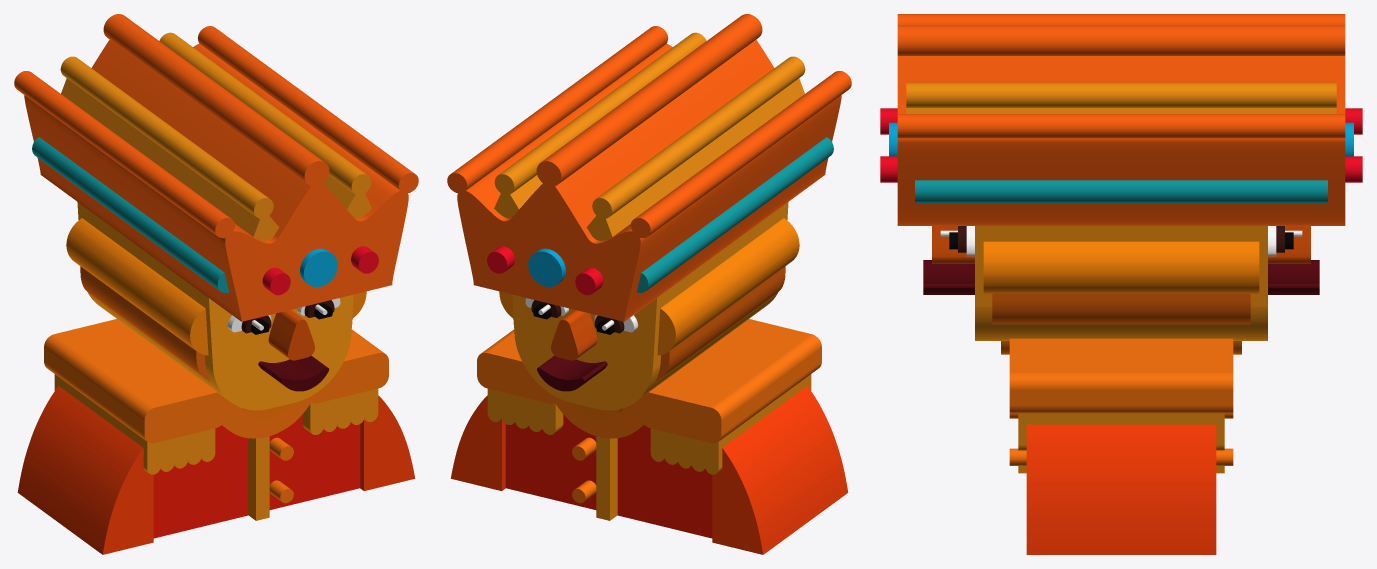
Rendered from U+1FAC5.obj.
The picture shows the model from 3 angles, left to right: view 1: azimuth 30°, elevation 25°; view 2: azimuth 150°, elevation 25°; view 3: azimuth 270°, elevation 25°; orthographic projection. The views are drawn at different scales.
Visible parts, largest first — view 1: U+1FAC5_layer16_obj00, U+1FAC5_layer01_obj00, U+1FAC5_layer03_obj00, U+1FAC5_layer15_obj00, U+1FAC5_layer00_obj00, U+1FAC5_layer07_obj00, U+1FAC5_layer02_obj00, U+1FAC5_layer06_obj00, U+1FAC5_layer14_obj00, U+1FAC5_layer05_obj00, U+1FAC5_layer12_obj00, U+1FAC5_layer13_obj00 (+2 smaller); view 2: U+1FAC5_layer16_obj00, U+1FAC5_layer01_obj00, U+1FAC5_layer03_obj00, U+1FAC5_layer15_obj00, U+1FAC5_layer00_obj00, U+1FAC5_layer07_obj00, U+1FAC5_layer02_obj00, U+1FAC5_layer06_obj00, U+1FAC5_layer14_obj00, U+1FAC5_layer05_obj00, U+1FAC5_layer12_obj00, U+1FAC5_layer13_obj00 (+2 smaller); view 3: U+1FAC5_layer16_obj00, U+1FAC5_layer01_obj00, U+1FAC5_layer03_obj00, U+1FAC5_layer06_obj00, U+1FAC5_layer15_obj00, U+1FAC5_layer07_obj00, U+1FAC5_layer14_obj00, U+1FAC5_layer05_obj00, U+1FAC5_layer13_obj00, U+1FAC5_layer02_obj00, U+1FAC5_layer12_obj00, U+1FAC5_layer18_obj00 (+1 smaller).
Boxes of the visible parts, x1,y1,x2,y2 form: U+1FAC5_layer16_obj00: [14, 14, 418, 321]; U+1FAC5_layer01_obj00: [17, 386, 414, 554]; U+1FAC5_layer03_obj00: [44, 319, 388, 503]; U+1FAC5_layer15_obj00: [60, 32, 371, 240]; U+1FAC5_layer00_obj00: [153, 414, 360, 538]; U+1FAC5_layer07_obj00: [77, 202, 353, 410]; U+1FAC5_layer02_obj00: [54, 374, 378, 520]; U+1FAC5_layer06_obj00: [66, 218, 366, 355]; U+1FAC5_layer14_obj00: [32, 137, 228, 292]; U+1FAC5_layer05_obj00: [80, 266, 352, 381]; U+1FAC5_layer12_obj00: [268, 310, 314, 360]; U+1FAC5_layer13_obj00: [258, 355, 329, 391]; U+1FAC5_layer16_obj00: [447, 14, 851, 321]; U+1FAC5_layer01_obj00: [451, 386, 848, 554]; U+1FAC5_layer03_obj00: [477, 319, 821, 503]; U+1FAC5_layer15_obj00: [494, 32, 805, 240]; U+1FAC5_layer00_obj00: [505, 414, 712, 538]; U+1FAC5_layer07_obj00: [512, 202, 788, 410]; U+1FAC5_layer02_obj00: [487, 374, 811, 520]; U+1FAC5_layer06_obj00: [499, 218, 799, 355]; U+1FAC5_layer14_obj00: [637, 137, 833, 292]; U+1FAC5_layer05_obj00: [513, 266, 785, 381]; U+1FAC5_layer12_obj00: [551, 310, 597, 360]; U+1FAC5_layer13_obj00: [536, 355, 607, 391]; U+1FAC5_layer16_obj00: [897, 14, 1345, 225]; U+1FAC5_layer01_obj00: [1026, 424, 1216, 554]; U+1FAC5_layer03_obj00: [1009, 338, 1233, 465]; U+1FAC5_layer06_obj00: [983, 241, 1259, 293]; U+1FAC5_layer15_obj00: [906, 82, 1336, 113]; U+1FAC5_layer07_obj00: [975, 226, 1267, 340]; U+1FAC5_layer14_obj00: [915, 180, 1327, 202]; U+1FAC5_layer05_obj00: [992, 293, 1250, 324]; U+1FAC5_layer13_obj00: [923, 260, 1319, 294]; U+1FAC5_layer02_obj00: [1018, 413, 1224, 473]; U+1FAC5_layer12_obj00: [932, 226, 1310, 263]; U+1FAC5_layer18_obj00: [880, 108, 1362, 182].
Bounding box in the file's own units: 0.4668 × 0.568 × 0.56.
